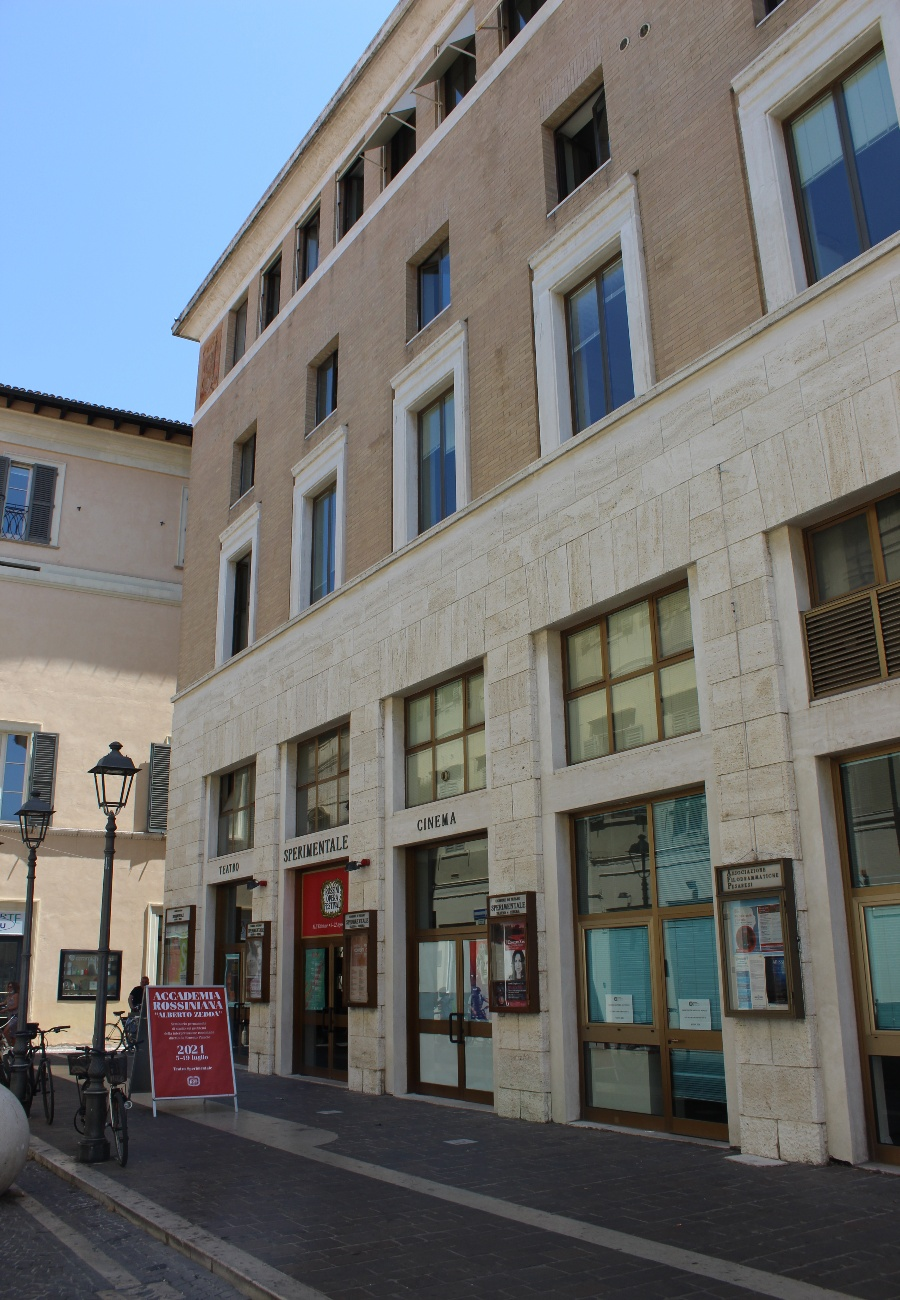Teatro Sperimentale: (168, 4, 900, 1177)
